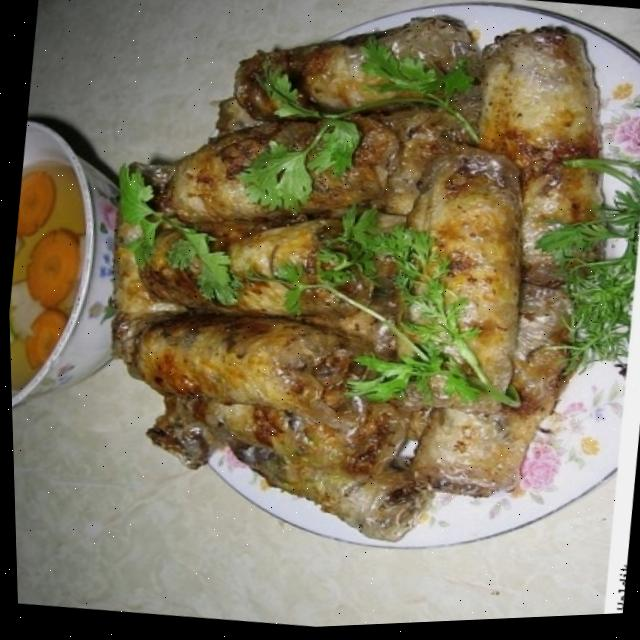炸货点心: (75, 0, 640, 570)
